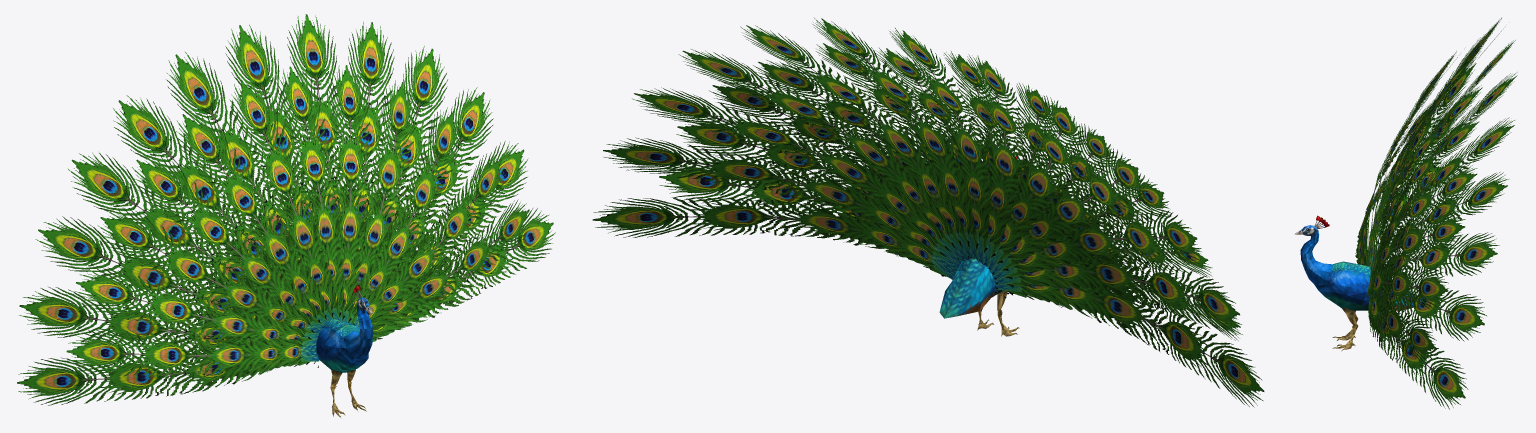
Rendered from Peacock.gltf.
3 views of the same model, side by side, from view 1: azimuth 30°, elevation 25°; view 2: azimuth 150°, elevation 25°; view 3: azimuth 270°, elevation 25° (orthographic). The views are drawn at different scales.
Visible parts, largest first — view 1: peafowl.001, peafowl; view 2: peafowl.001, peafowl; view 3: peafowl.001, peafowl.
Part boxes in pixels (x1=…): peafowl.001: x1=17, y1=14, x2=555, y2=405; peafowl: x1=316, y1=285, x2=372, y2=418; peafowl.001: x1=592, y1=18, x2=1264, y2=407; peafowl: x1=939, y1=155, x2=1020, y2=336; peafowl.001: x1=1355, y1=18, x2=1517, y2=409; peafowl: x1=1294, y1=215, x2=1415, y2=351.
Bounding box in the file's own units: 109 × 61.29 × 42.06.
Materials: 1 (1 with a texture image).
